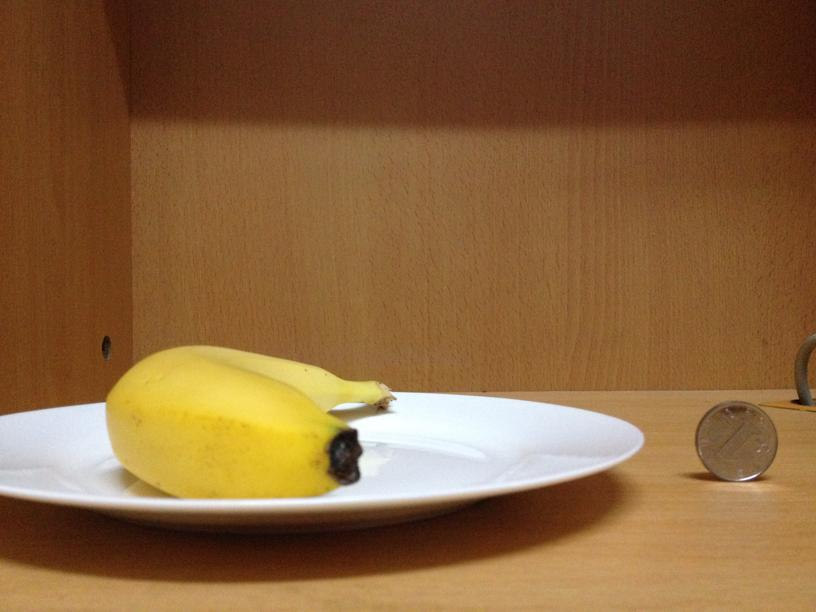banana: (107, 339, 372, 494)
coin: (692, 396, 766, 496)
